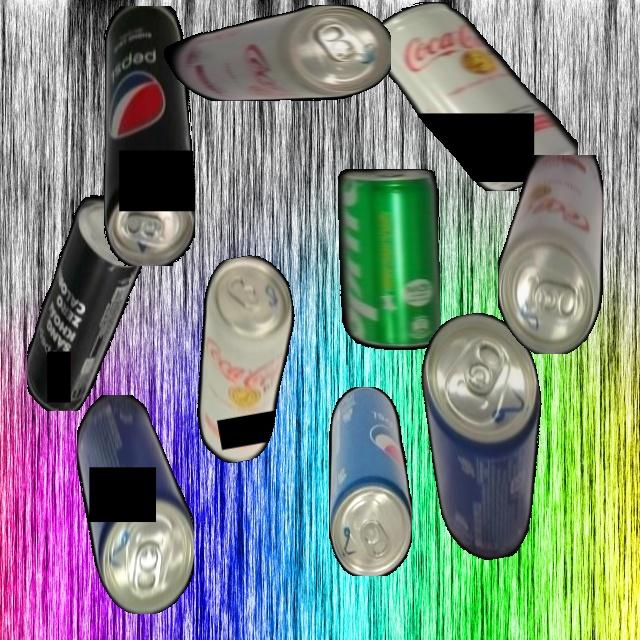debris: (409, 305, 567, 566), (370, 1, 578, 191), (172, 250, 318, 467), (76, 394, 194, 614), (26, 188, 142, 411), (103, 5, 195, 266), (157, 5, 391, 101), (497, 154, 603, 354), (337, 169, 440, 350), (328, 386, 412, 576)
